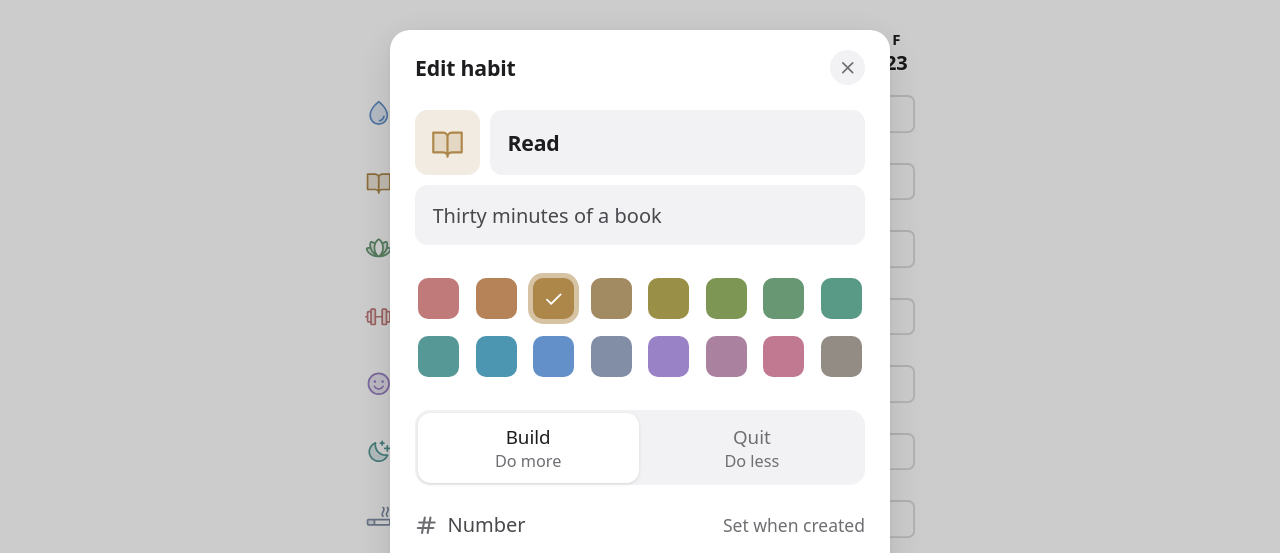
edit › a close right after typing keeps the last letters
Step 1. Replace the text in the field named "Name" with "Read a book" → [678, 142], box [490, 110, 865, 175]
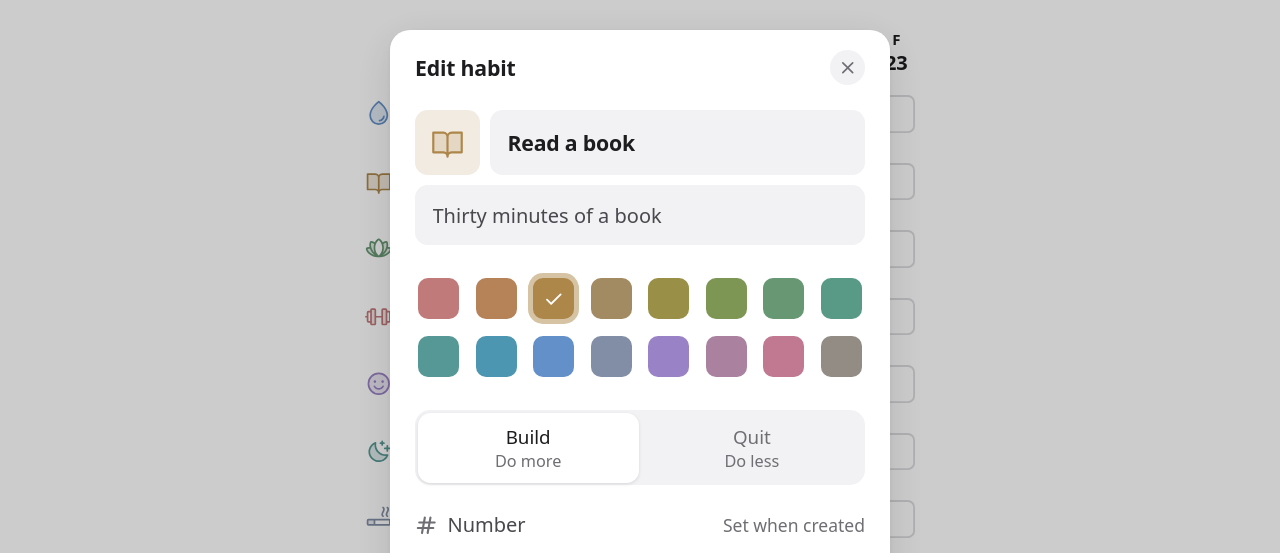
Step 2. Click the button named "Close" → [848, 68], box [820, 40, 875, 95]
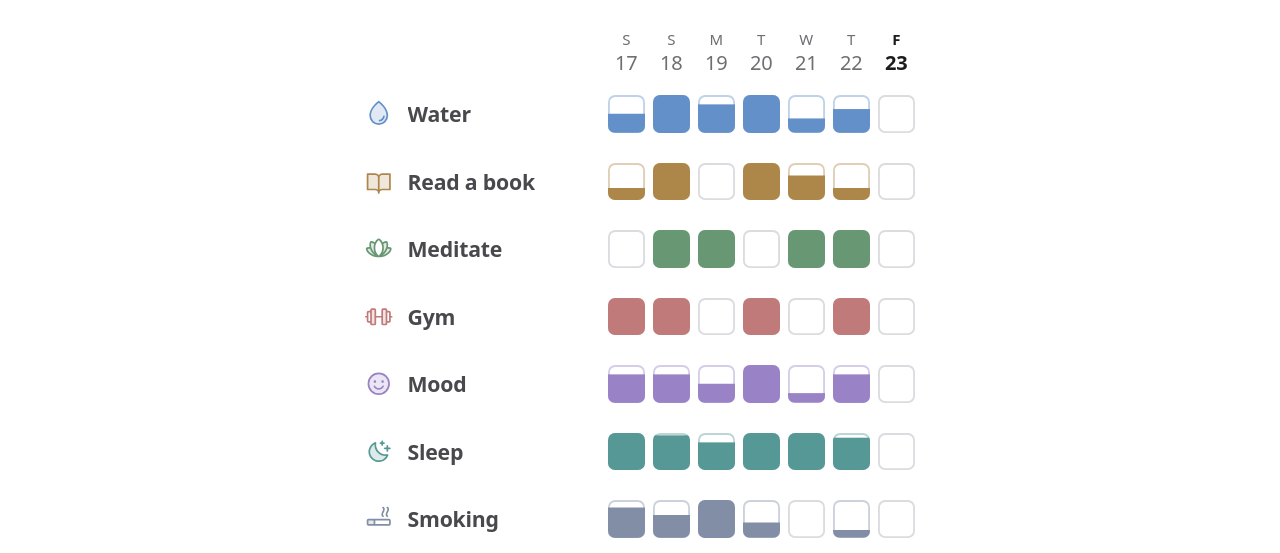
Now the text "Read a book" is shown, box [408, 168, 535, 195]
